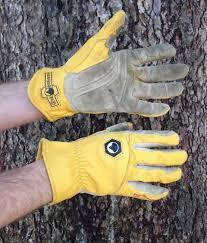gloves: (27, 9, 188, 123), (36, 122, 188, 207)
